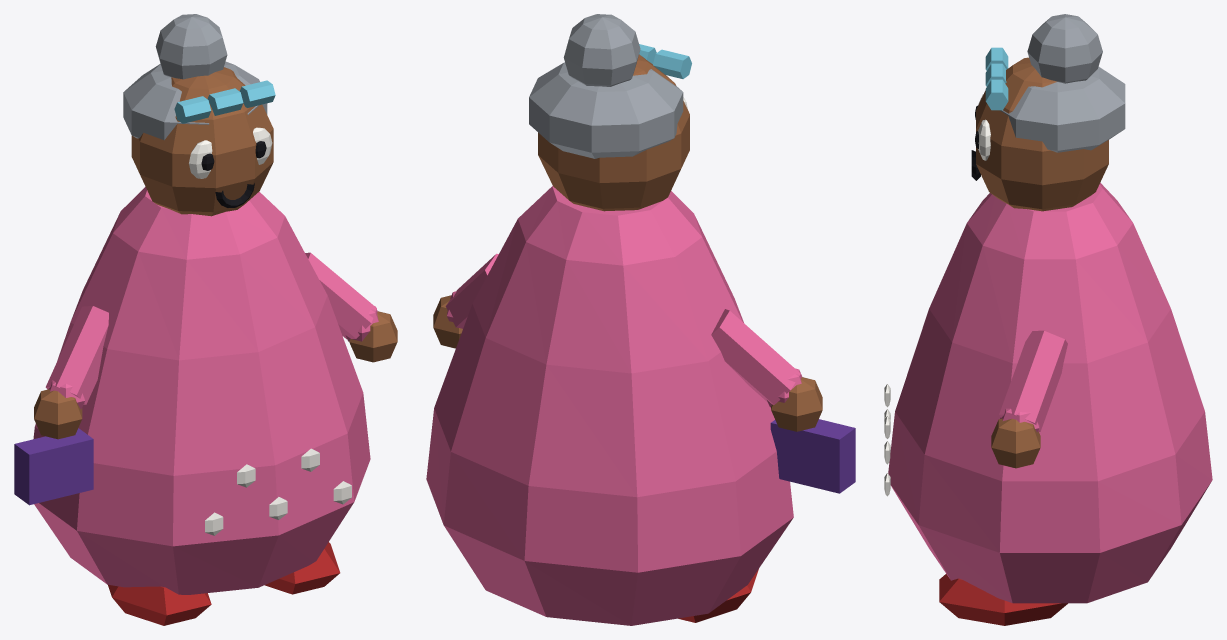
Rendered from npc_vecina.glb.
The picture shows the model from 3 angles, left to right: view 1: azimuth 30°, elevation 25°; view 2: azimuth 150°, elevation 25°; view 3: azimuth 270°, elevation 25°; orthographic projection. The views are drawn at different scales.
Visible parts, largest first — view 1: body_dress, head_skin_cacao, head_hair_gray, arms_dress, props_bag, legs_red_shoes, arms_skin_cacao, head_curler (×3), body_white, face_white, face_black; view 2: body_dress, head_hair_gray, head_skin_cacao, arms_dress, props_bag, arms_skin_cacao, head_curler, legs_red_shoes; view 3: body_dress, head_hair_gray, head_skin_cacao, arms_dress, legs_red_shoes, arms_skin_cacao, head_curler, body_white.
Part boxes in pixels (x1,y1,x2,y2): body_dress: (33,187,370,594); head_skin_cacao: (131,67,273,216); head_hair_gray: (123,14,267,140); arms_dress: (45,252,378,409); props_bag: (14,428,93,505); legs_red_shoes: (108,542,340,625); arms_skin_cacao: (34,311,397,439); head_curler (×3): (174,80,275,123); body_white: (205,448,351,535); face_white: (189,127,272,178); face_black: (201,141,266,207); body_dress: (426,186,793,625); head_hair_gray: (529,14,683,158); head_skin_cacao: (538,54,689,211); arms_dress: (445,253,802,407); props_bag: (770,419,855,493); arms_skin_cacao: (433,295,822,431); head_curler: (653,49,691,78); legs_red_shoes: (678,569,758,622); body_dress: (888,183,1212,603); head_hair_gray: (1000,14,1125,152); head_skin_cacao: (976,57,1108,211); arms_dress: (999,330,1067,432); legs_red_shoes: (939,574,1067,625); arms_skin_cacao: (991,418,1040,468); head_curler: (985,79,1008,110); body_white: (884,384,890,496).
Size of the model in its own units: 1.19 by 1.66 by 0.8682.
